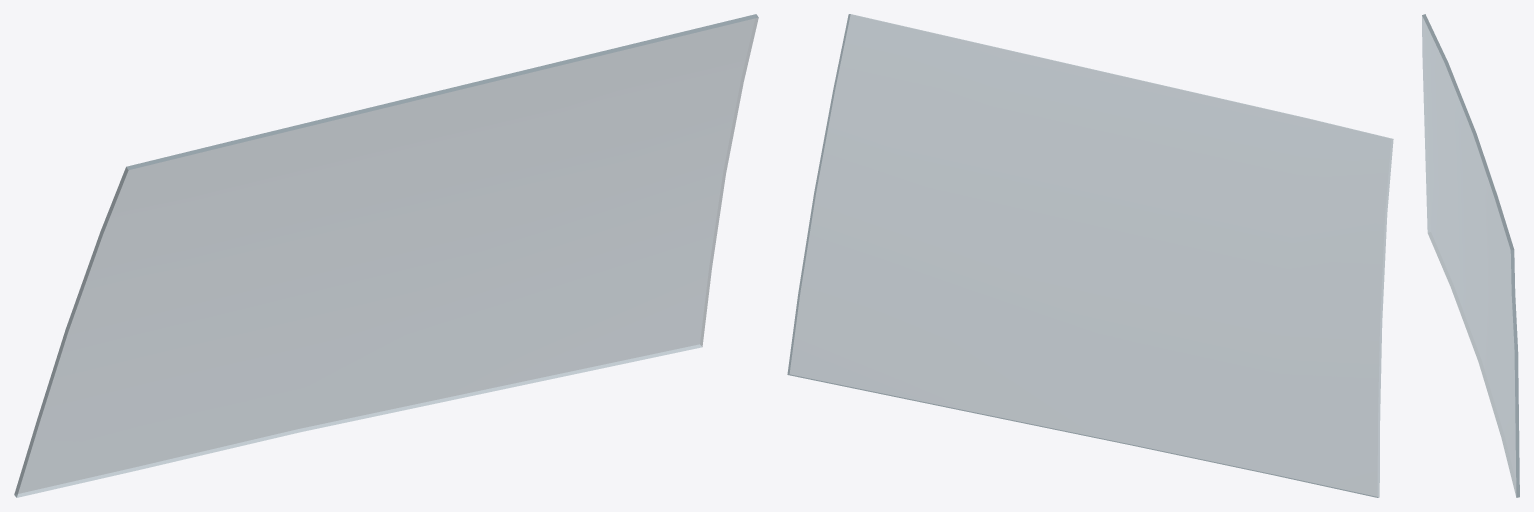
3 renders of one model, left to right at view 1: azimuth 30°, elevation 25°; view 2: azimuth 150°, elevation 25°; view 3: azimuth 270°, elevation 25°, orthographic. The views are drawn at different scales.
Parts seen in each view (by area): view 1: SM_NissanPatrol_Door_RL_Glass_Ext1; view 2: SM_NissanPatrol_Door_RL_Glass_Ext1; view 3: SM_NissanPatrol_Door_RL_Glass_Ext1.
Part boxes in pixels (x1,y1,x2,y2): SM_NissanPatrol_Door_RL_Glass_Ext1: (14, 14, 758, 497); SM_NissanPatrol_Door_RL_Glass_Ext1: (787, 14, 1393, 497); SM_NissanPatrol_Door_RL_Glass_Ext1: (1422, 14, 1519, 497).
Bounding box in the file's own units: 0.9407 × 0.502 × 0.167.
